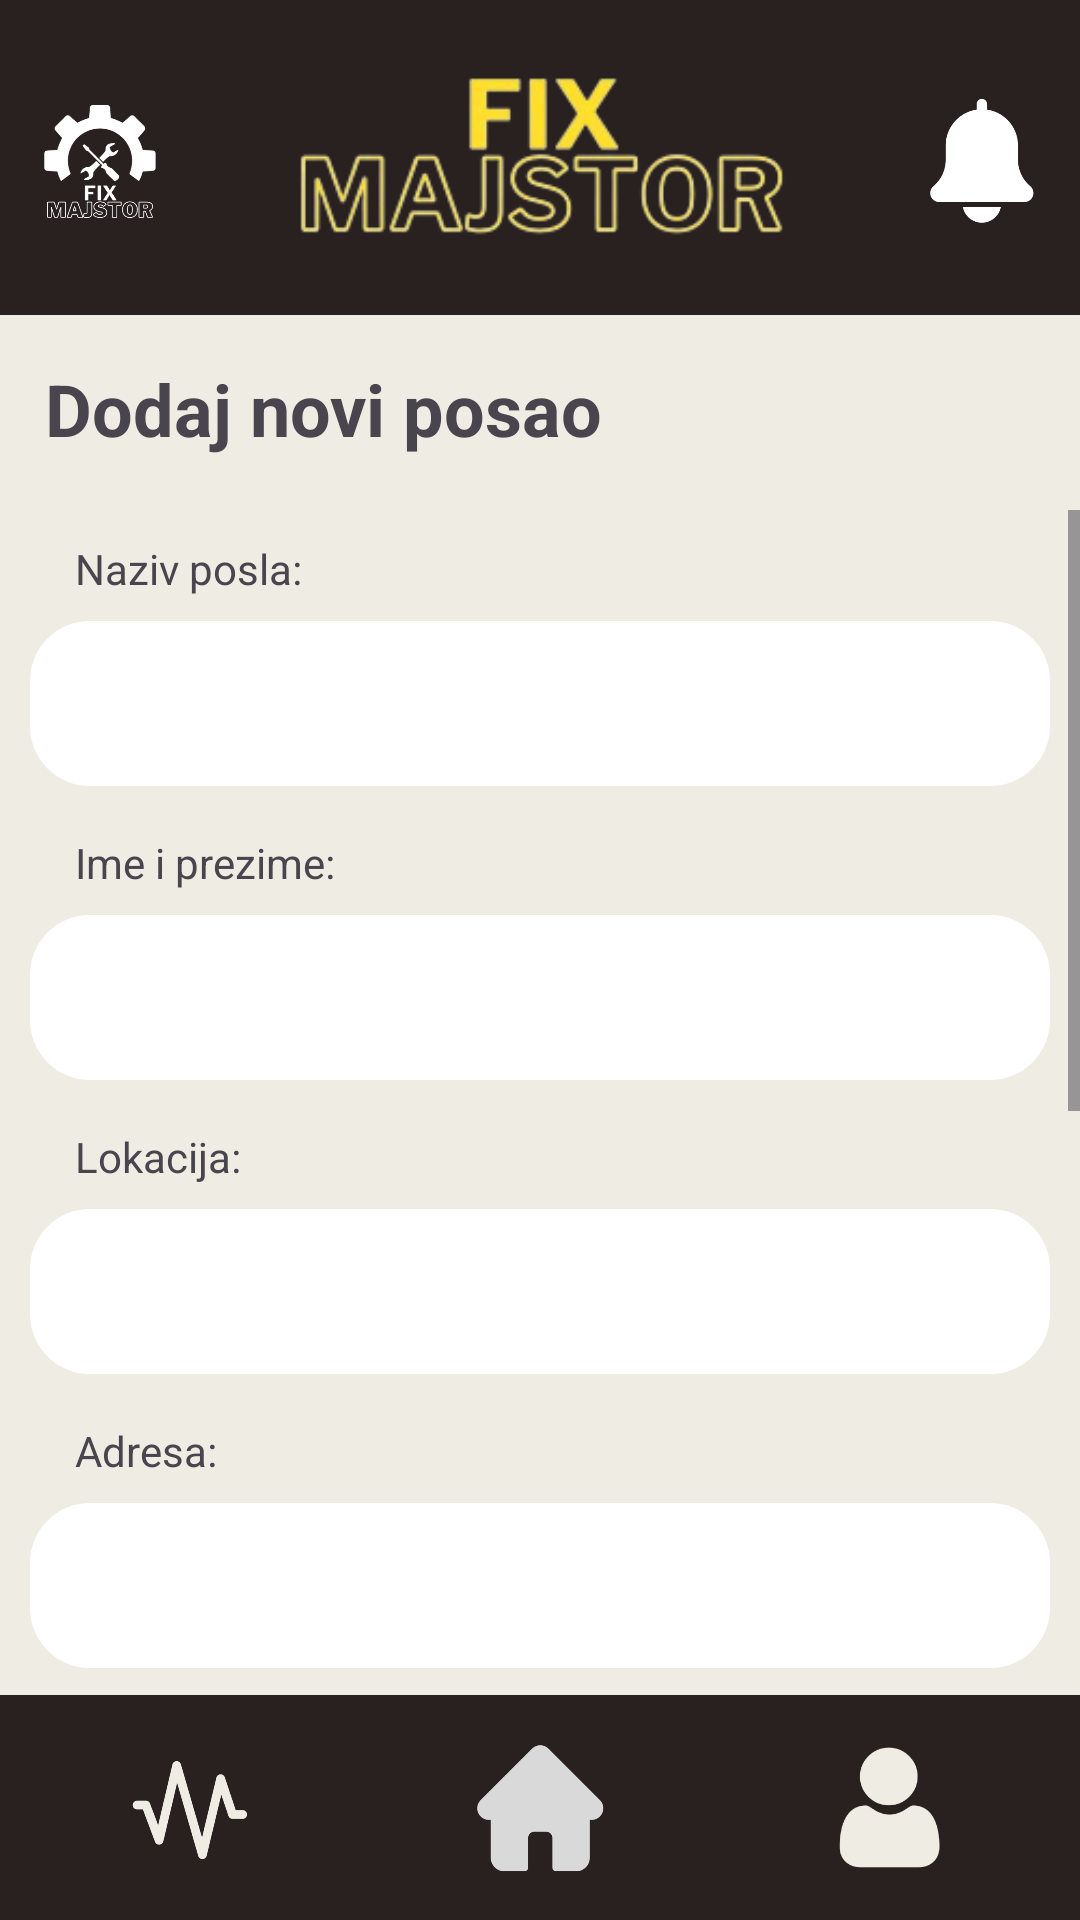

Screen size 1080 x 1920. Icon name, then its center in pixels as (x=x, y=y):
Activity: (x=189, y=1810)
Home: (x=540, y=1808)
notification: (x=982, y=161)
Profile: (x=889, y=1807)
